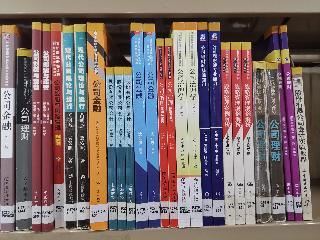book-spine: (84, 22, 109, 230), (271, 25, 296, 222), (128, 21, 150, 229), (247, 61, 273, 224), (288, 66, 315, 221), (184, 22, 204, 229), (281, 25, 302, 221), (14, 46, 35, 231), (72, 23, 90, 230), (143, 22, 161, 229), (209, 22, 227, 225), (264, 59, 286, 223), (61, 23, 78, 230), (173, 22, 190, 229), (0, 24, 16, 234), (197, 21, 213, 226), (219, 41, 236, 225), (155, 37, 171, 229), (241, 42, 257, 224), (50, 23, 64, 228), (230, 42, 245, 226), (30, 22, 42, 231), (113, 66, 127, 232), (165, 38, 177, 230), (122, 67, 136, 231), (42, 23, 53, 231), (105, 67, 118, 231)
